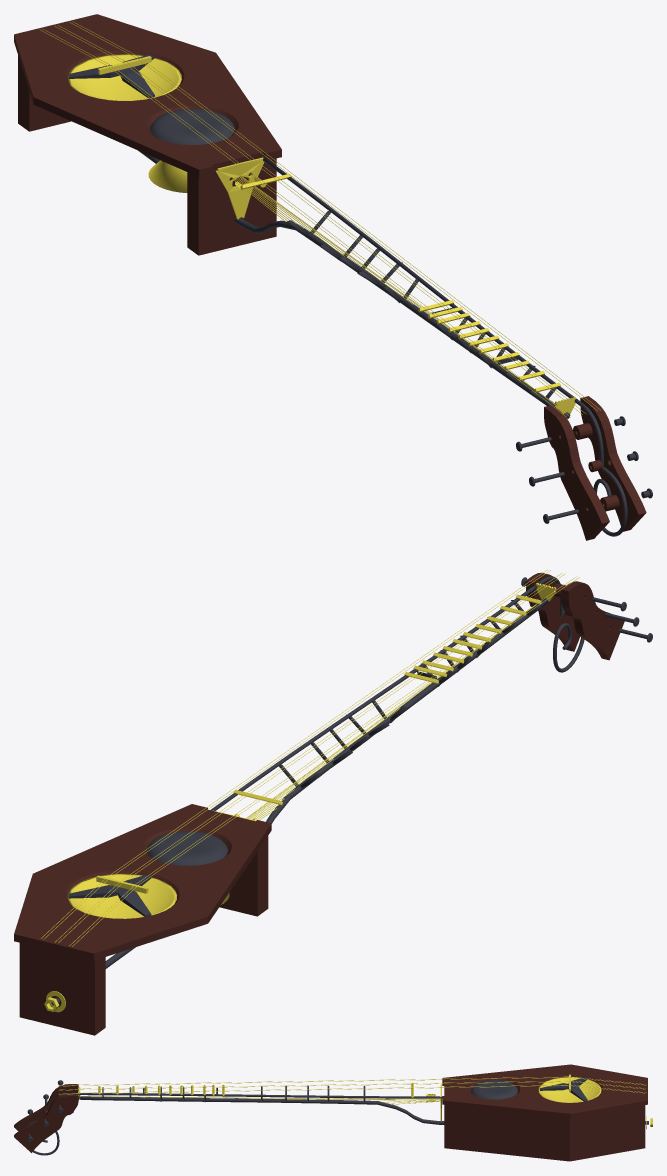
The model's file is shazna-KonPhone.glb.
3 views of the same model, one above another, from view 1: azimuth 30°, elevation 25°; view 2: azimuth 150°, elevation 25°; view 3: azimuth 270°, elevation 25° (orthographic). The views are drawn at different scales.
Visible parts, largest first — view 1: body_top.001, head_block.001, body_neck.001, Vert.002, cone_big.001, top_rods.001, hub_cap, spine.001, truss_shortest.002, heel_plate.001, sympathetic_strings.001, body_tail.001 (+3 smaller); view 2: body_top.001, body_tail.001, head_block.001, Vert.002, cone_big.001, hub_cap, top_rods.001, body_neck.001, spine.001, truss_shortest.002, spider, sympathetic_strings.001; view 3: body_top.001, body_long.001, body_short.001, Vert.002, head_block.001, spine.001, top_rods.001, cone_big.001, hub_cap, sympathetic_strings.001, spider, truss_shortest.002 (+1 smaller).
Boxes of the visible parts, box(x1,y1,x2,y2) form: body_top.001: box(14, 14, 281, 177); head_block.001: box(544, 396, 646, 540); body_neck.001: box(187, 158, 276, 255); Vert.002: box(39, 21, 600, 418); cone_big.001: box(67, 54, 181, 100); top_rods.001: box(261, 156, 627, 536); hub_cap: box(150, 109, 234, 144); spine.001: box(139, 151, 570, 418); truss_shortest.002: box(286, 211, 556, 400); heel_plate.001: box(215, 157, 264, 219); sympathetic_strings.001: box(234, 176, 555, 404); body_tail.001: box(18, 55, 71, 131); body_top.001: box(14, 804, 271, 960); body_tail.001: box(19, 943, 105, 1035); head_block.001: box(525, 572, 624, 660); Vert.002: box(41, 569, 579, 946); cone_big.001: box(67, 873, 176, 918); hub_cap: box(147, 831, 227, 865); top_rods.001: box(210, 576, 584, 810); body_neck.001: box(219, 836, 268, 916); spine.001: box(51, 598, 549, 1005); truss_shortest.002: box(279, 600, 540, 788); spider: box(68, 875, 151, 916); sympathetic_strings.001: box(246, 605, 535, 820); body_top.001: box(442, 1064, 647, 1117); body_long.001: box(444, 1105, 569, 1161); body_short.001: box(570, 1105, 645, 1161); Vert.002: box(59, 1076, 645, 1094); head_block.001: box(14, 1084, 78, 1152); spine.001: box(78, 1096, 648, 1124); top_rods.001: box(27, 1093, 442, 1155); cone_big.001: box(538, 1077, 601, 1102); hub_cap: box(471, 1079, 517, 1099); sympathetic_strings.001: box(91, 1096, 442, 1104); spider: box(540, 1077, 587, 1101); truss_shortest.002: box(102, 1085, 365, 1103).
Bounding box in the file's own units: 0.1866 × 0.1257 × 1.02.
